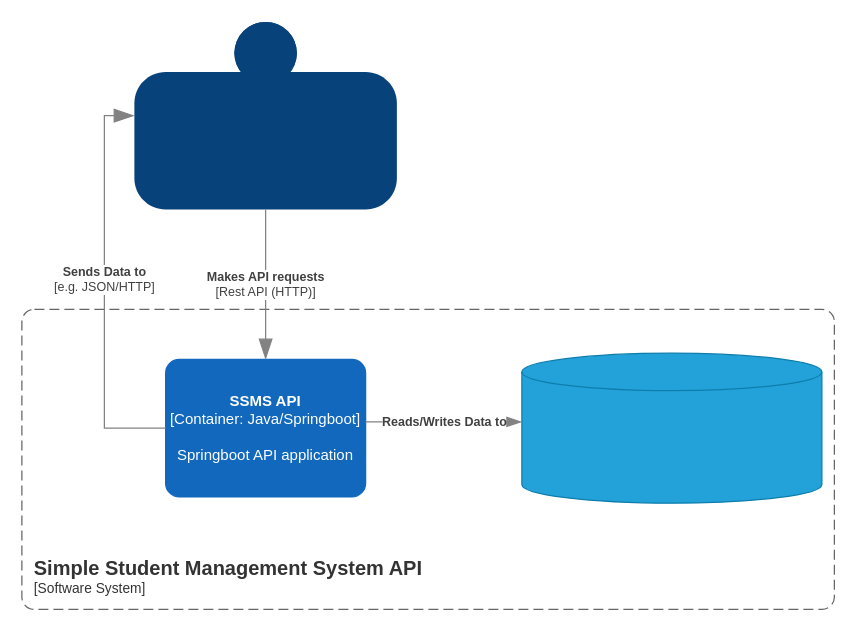
This 856x631 diagram has some shape labels left out. The centre of each missing label's shape, as x and y in pixels:
"API User [Person] Makes API client calls" belongs at (265,115).
"SSMS Database [Container: Postgresql] Postgresql DB" belongs at (671,427).
